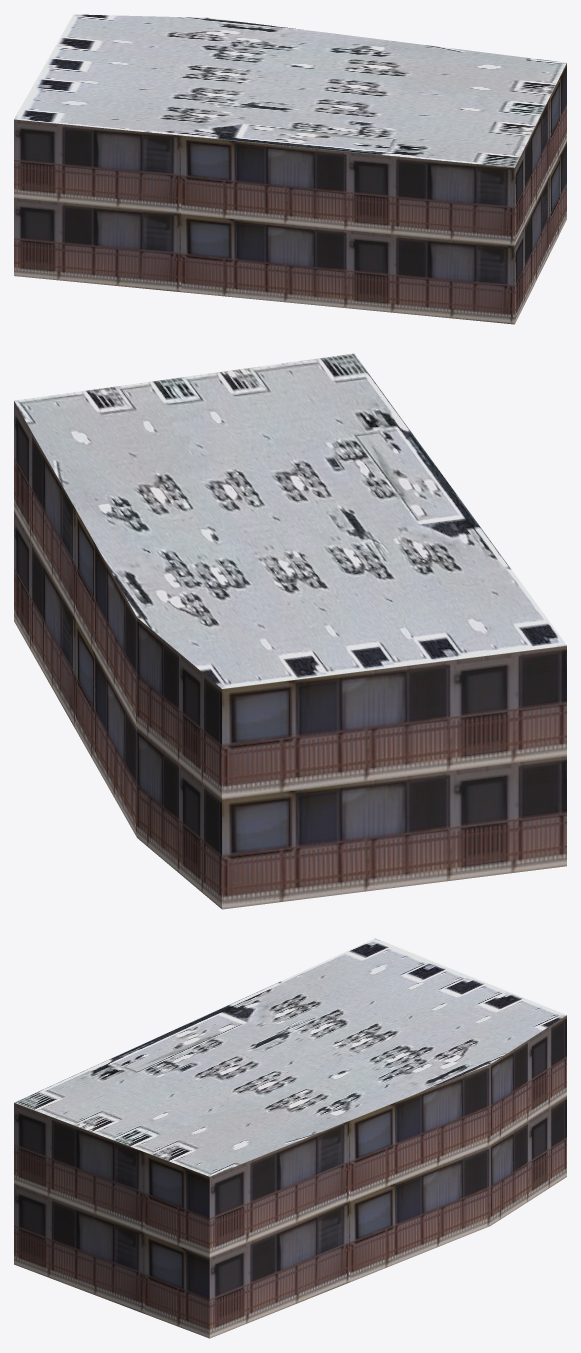
The model's file is ResTex__4366.fbx.
The picture shows the model from 3 angles, top to bottom: view 1: azimuth 30°, elevation 25°; view 2: azimuth 150°, elevation 25°; view 3: azimuth 270°, elevation 25°; orthographic projection. The views are drawn at different scales.
Visible parts, largest first — view 1: CityEngineMaterial_6_m, CityEngineMaterial_4_m; view 2: CityEngineMaterial_6_m, CityEngineMaterial_4_m; view 3: CityEngineMaterial_6_m, CityEngineMaterial_4_m.
Boxes of the visible parts, bbox=[...] form: CityEngineMaterial_6_m: bbox=[14, 63, 566, 324]; CityEngineMaterial_4_m: bbox=[14, 14, 566, 167]; CityEngineMaterial_6_m: bbox=[14, 401, 566, 909]; CityEngineMaterial_4_m: bbox=[14, 353, 566, 688]; CityEngineMaterial_6_m: bbox=[14, 1015, 566, 1338]; CityEngineMaterial_4_m: bbox=[14, 938, 566, 1176].
Bounding box in the file's own units: 18.96 × 6 × 18.58.
2 materials, 2 textured.
